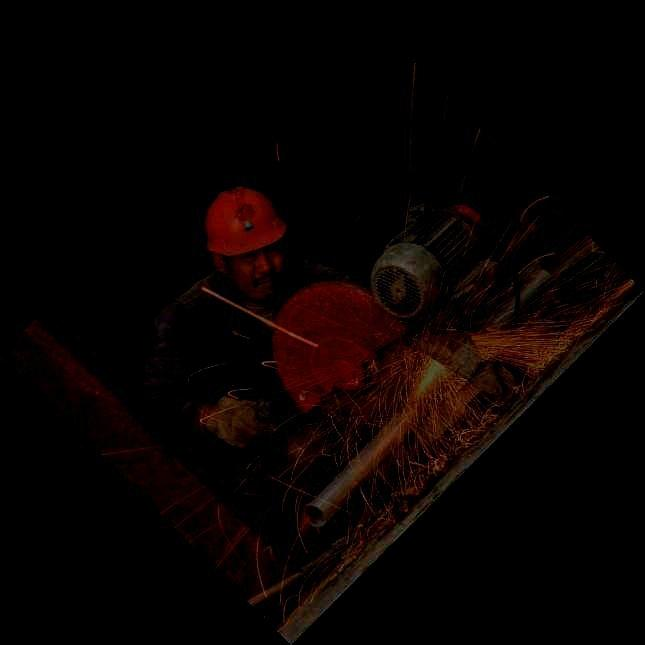helmet: (205, 184, 287, 297)
